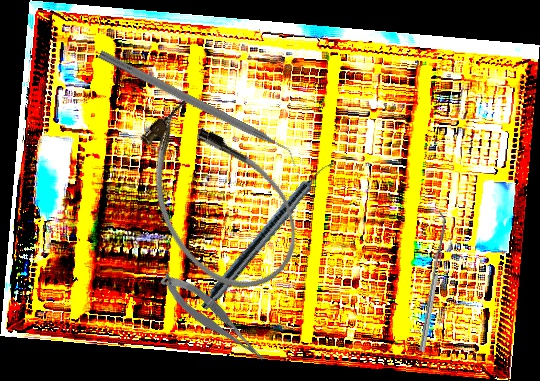Cannula: (111, 81, 321, 314)
Chopper: (92, 50, 303, 171)
Handpiece: (198, 153, 338, 315)
Micro Scissor: (156, 262, 270, 376)
Spatula Surgical: (413, 211, 450, 352)
